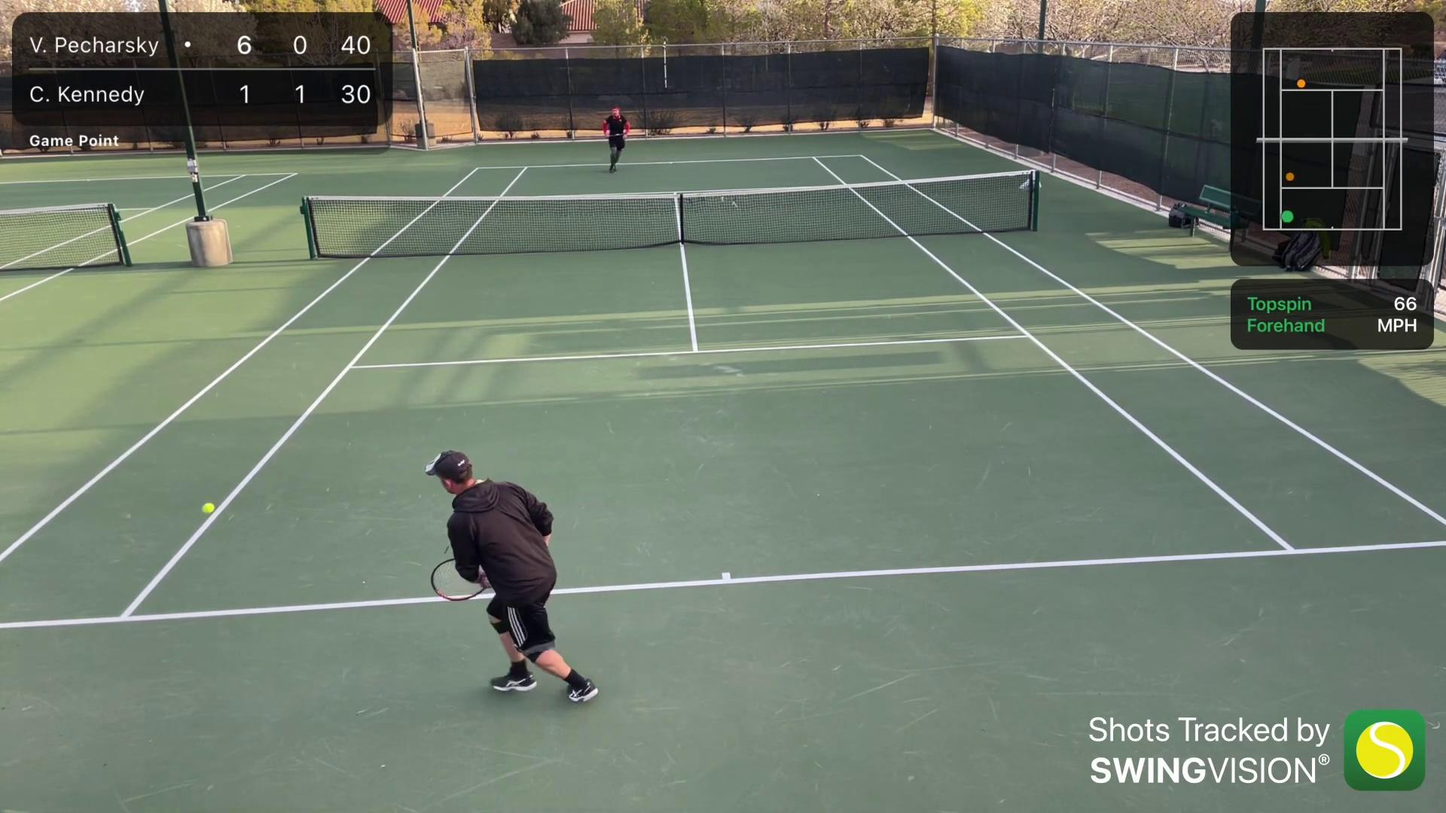ball: (197, 498, 217, 514)
